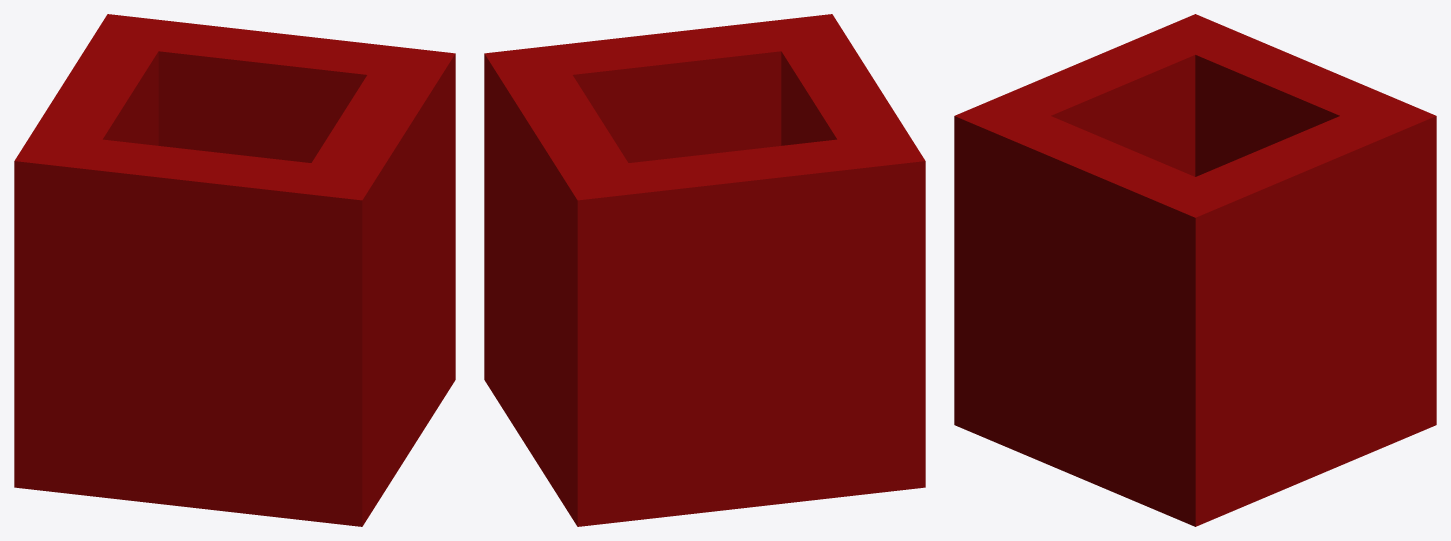
The model's file is trapWallHole.fbx.
The picture shows the model from 3 angles, left to right: view 1: azimuth 30°, elevation 25°; view 2: azimuth 150°, elevation 25°; view 3: azimuth 270°, elevation 25°; orthographic projection. The views are drawn at different scales.
Parts seen in each view (by area): view 1: Model; view 2: Model; view 3: Model.
Part boxes in pixels (x1,y1,x2,y2): Model: (14, 14, 455, 526); Model: (484, 14, 925, 526); Model: (954, 14, 1436, 526).
Size of the model in its own units: 1.41 by 1 by 1.41.
